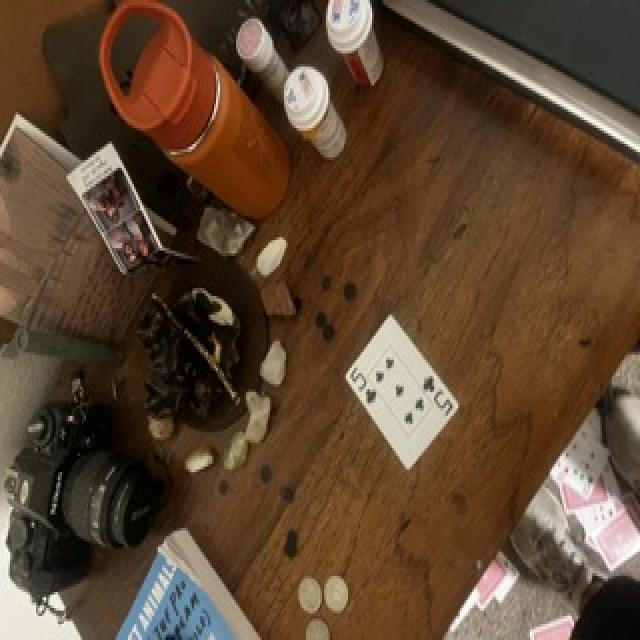5 of clubs: (346, 315, 459, 468)
